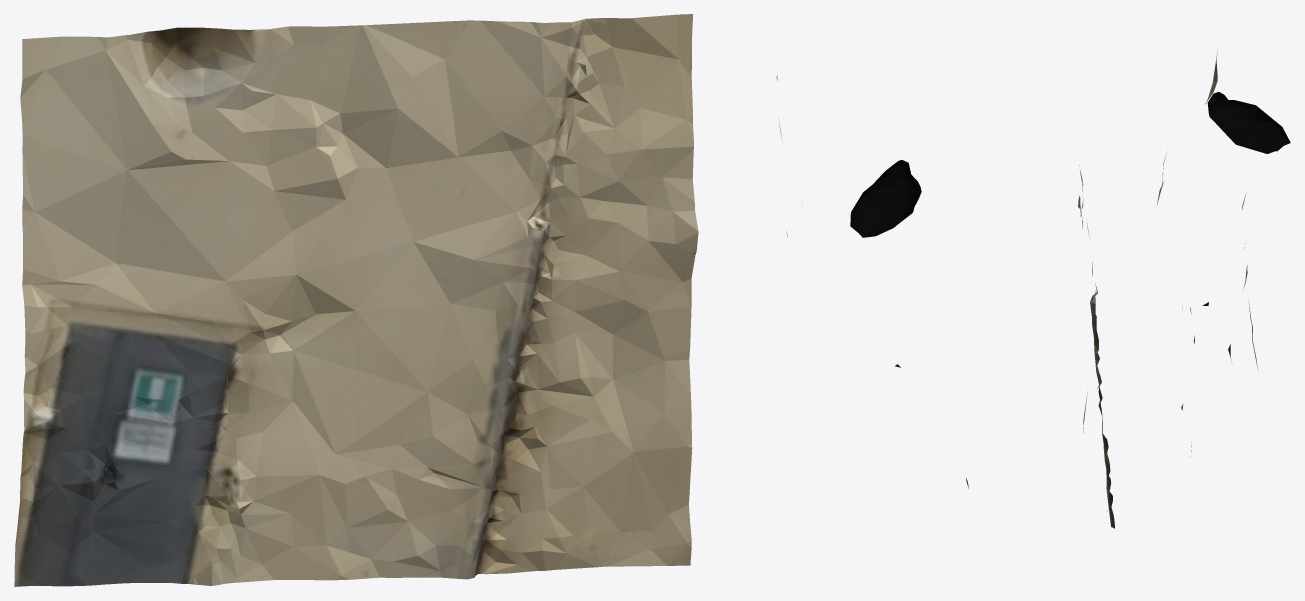
3 views of the same model, side by side, from view 1: azimuth 30°, elevation 25°; view 2: azimuth 150°, elevation 25°; view 3: azimuth 270°, elevation 25° (orthographic). The views are drawn at different scales.
Bounding box in the file's own units: 3.35 × 3.35 × 1.94.
Materials: 3 (3 with a texture image).
